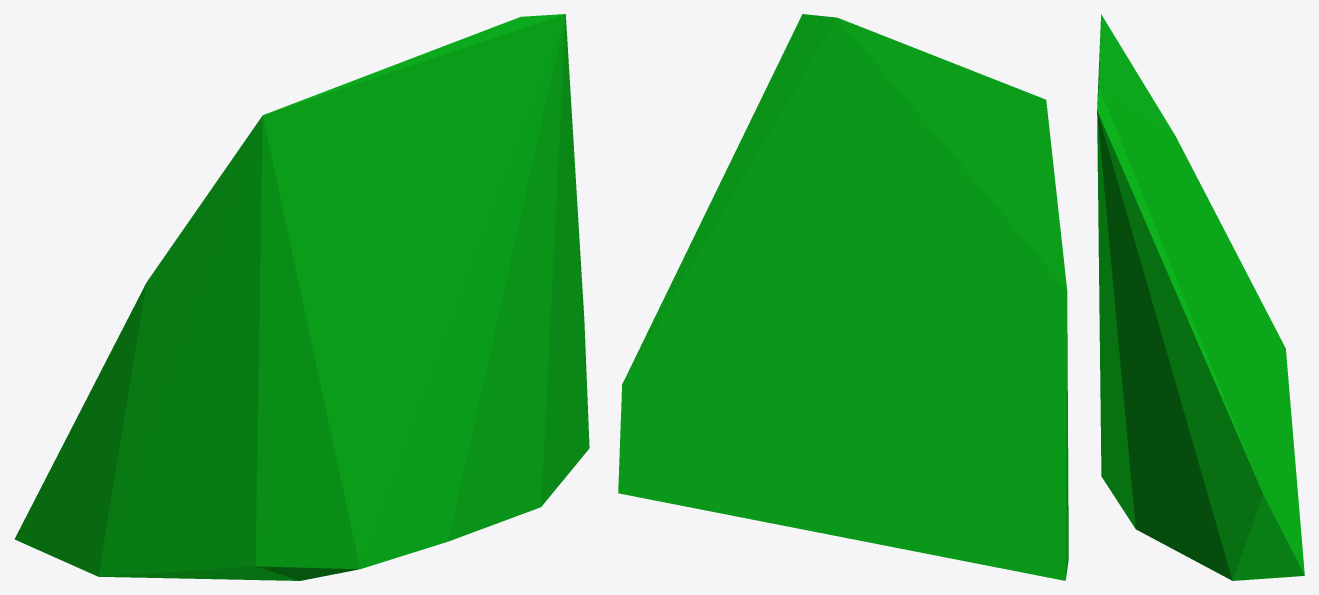
Rendered from arm-L2_convex_piece_001.obj.
The picture shows the model from 3 angles, left to right: view 1: azimuth 30°, elevation 25°; view 2: azimuth 150°, elevation 25°; view 3: azimuth 270°, elevation 25°; orthographic projection. The views are drawn at different scales.
Size of the model in its own units: 0.0676 by 0.0613 by 0.0266.
